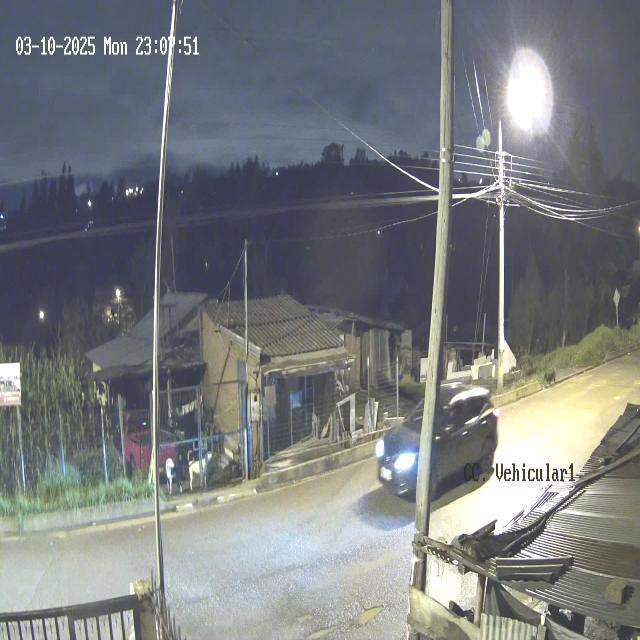SUV: (375, 378, 499, 504)
